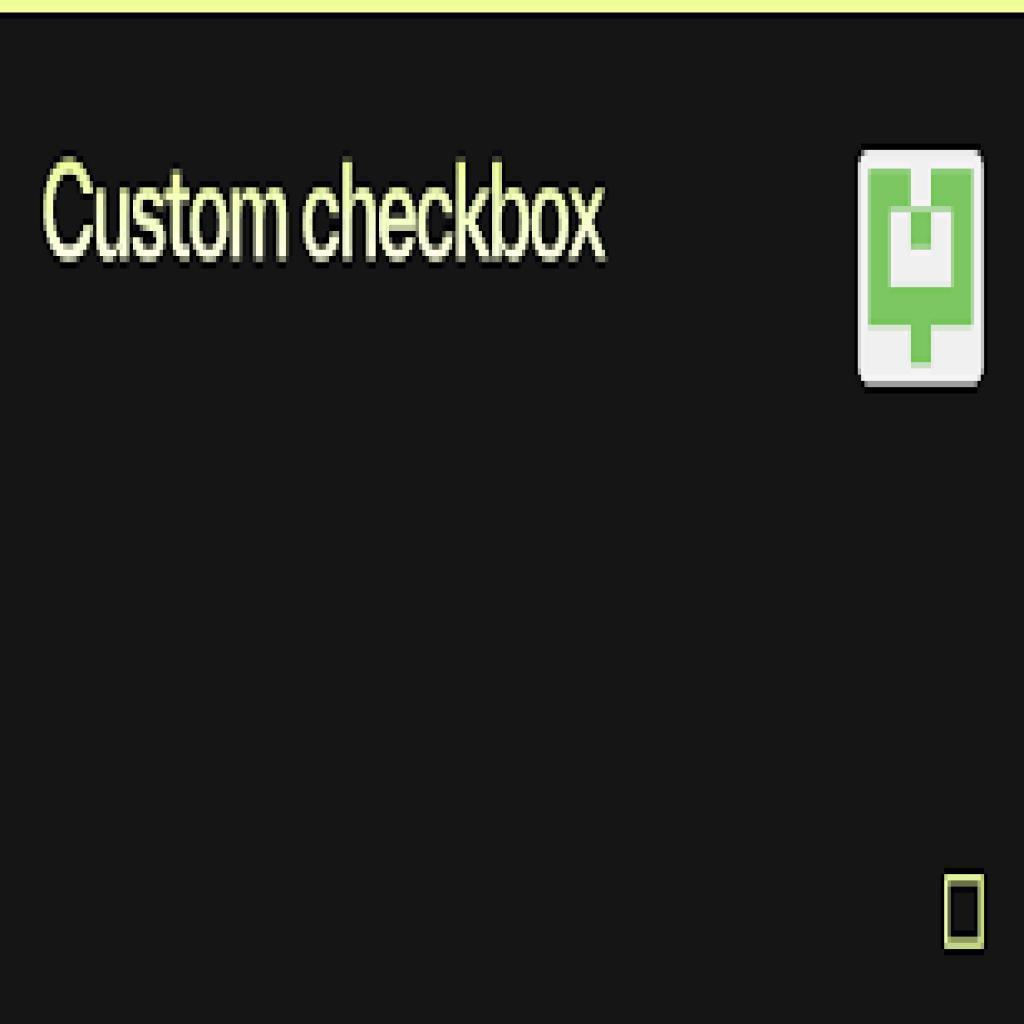checkbox: (941, 875, 984, 954)
label: (42, 142, 611, 278)
